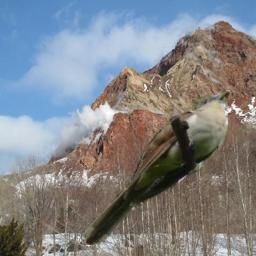Cuckoo: (81, 90, 230, 245)
